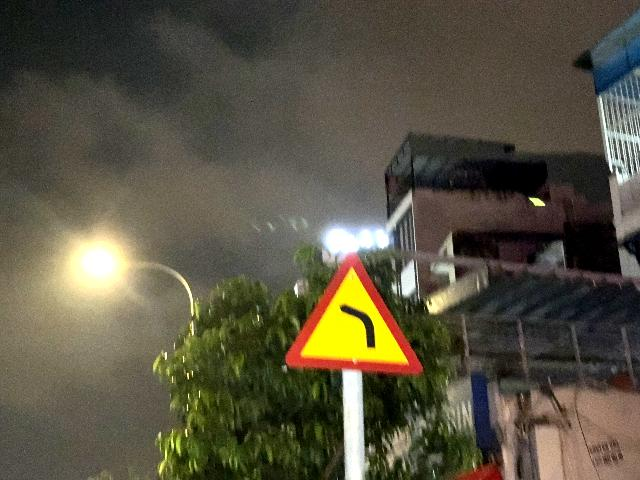cho-ngoat-nguy-hiem-ben-trai: (285, 252, 424, 375)
